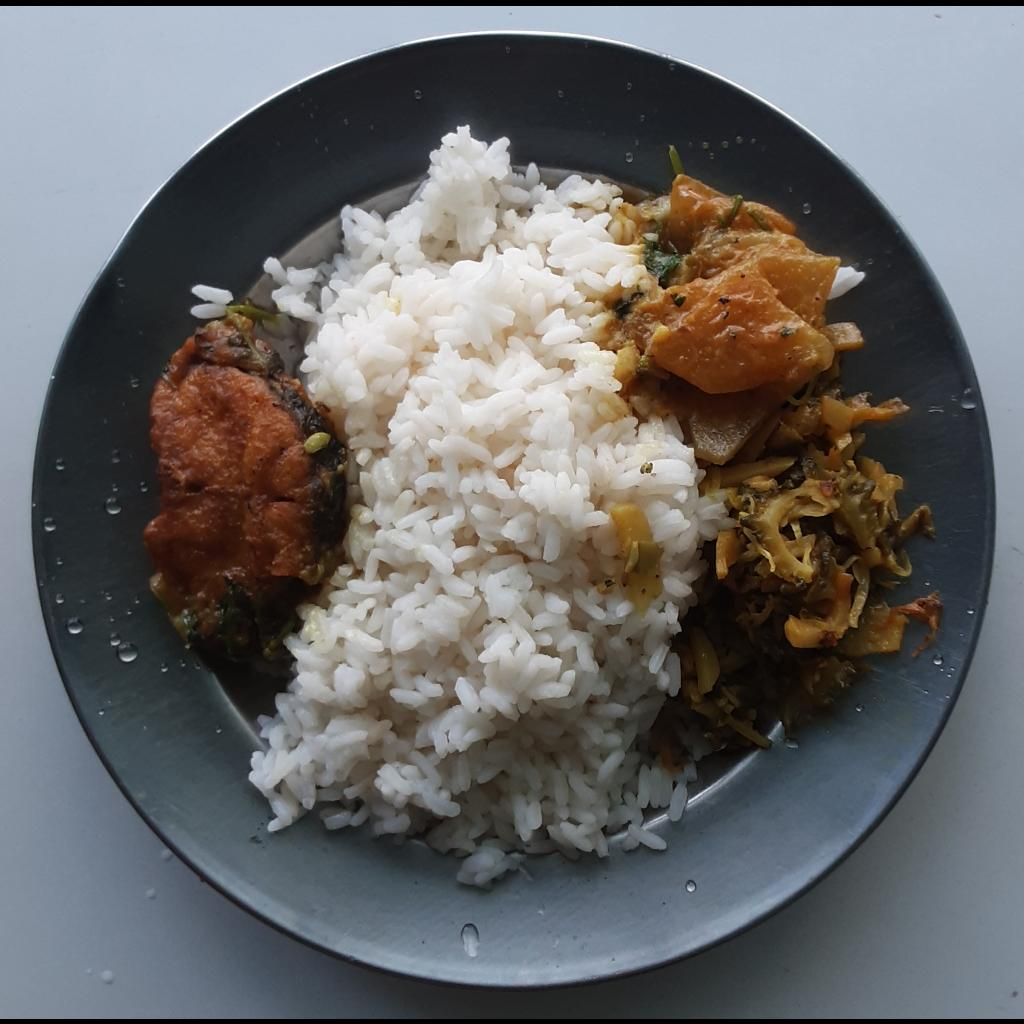dundol: (609, 167, 867, 476)
fish: (143, 300, 348, 658)
korola-vaji: (684, 357, 945, 753)
rice: (245, 119, 744, 902)
